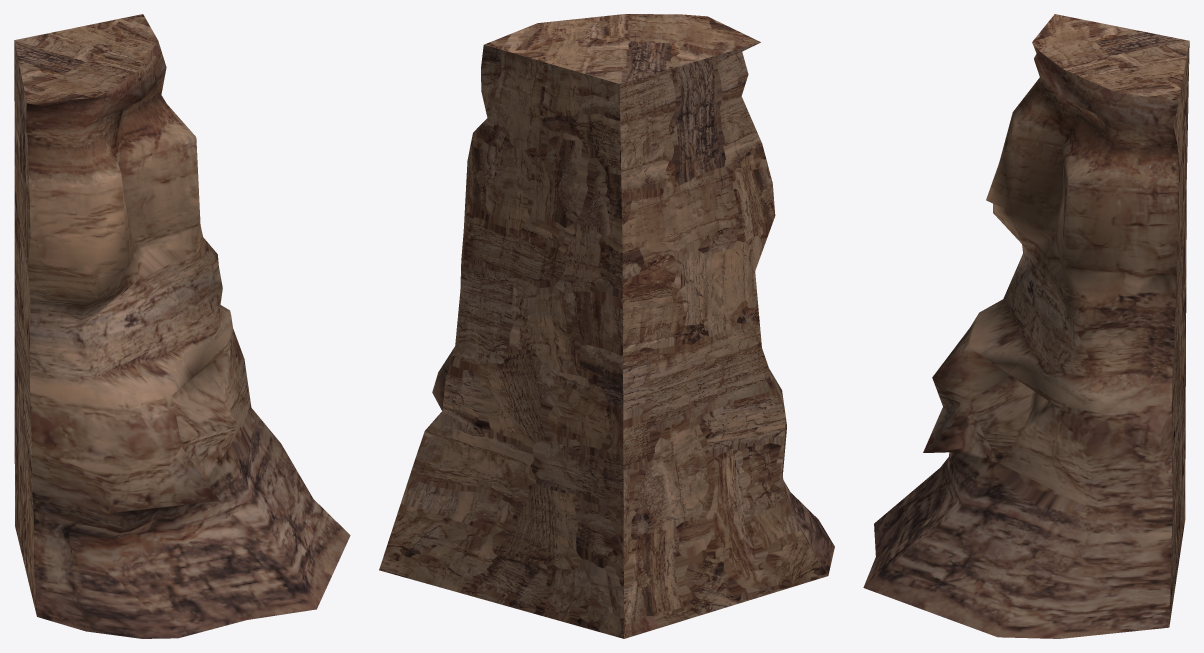
Rendered from Mesh_Cliff_Corner_02_Slope_AU.fbx.
The picture shows the model from 3 angles, left to right: view 1: azimuth 30°, elevation 25°; view 2: azimuth 150°, elevation 25°; view 3: azimuth 270°, elevation 25°; orthographic projection. The views are drawn at different scales.
Parts seen in each view (by area): view 1: Mesh_Cliff_Corner_02_Slope_AU; view 2: Mesh_Cliff_Corner_02_Slope_AU; view 3: Mesh_Cliff_Corner_02_Slope_AU.
Part boxes in pixels (bbox=[...]): Mesh_Cliff_Corner_02_Slope_AU: bbox=[14, 14, 350, 638]; Mesh_Cliff_Corner_02_Slope_AU: bbox=[379, 14, 834, 638]; Mesh_Cliff_Corner_02_Slope_AU: bbox=[863, 14, 1189, 638].
Size of the model in its own units: 4649 by 6655 by 4095.
